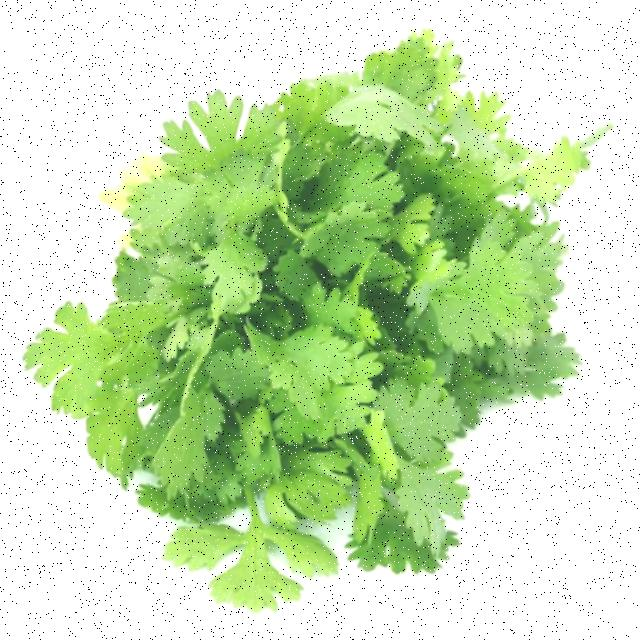Coriander: (26, 19, 566, 587)
